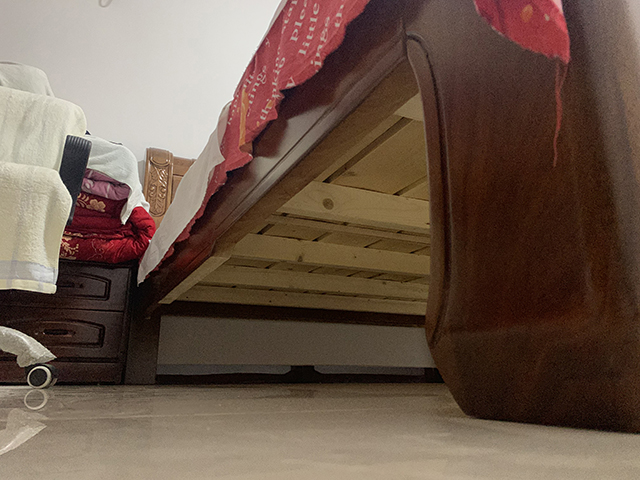bed: (124, 1, 640, 435)
cabinet: (1, 262, 127, 384)
stool: (1, 85, 92, 392)
